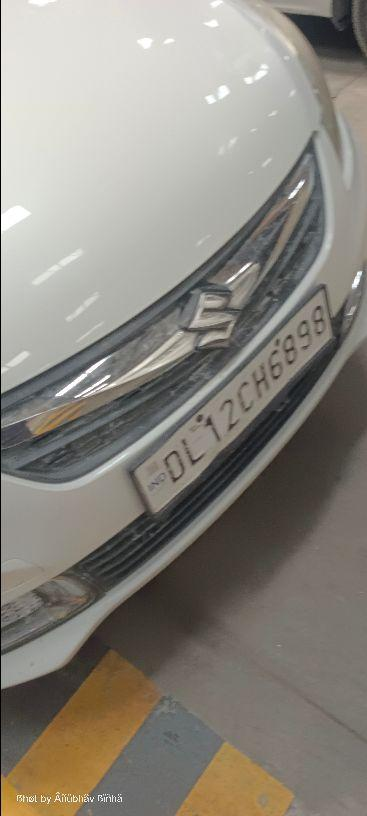license_plate: (1, 0, 365, 691), (127, 281, 337, 517)
